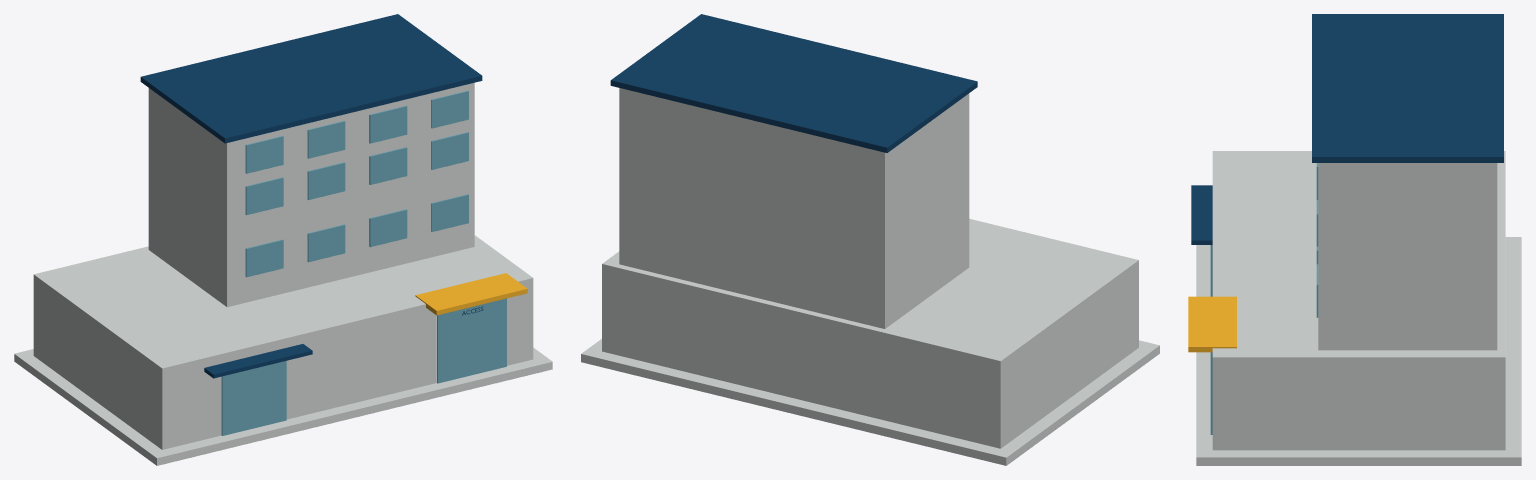
File: edited.glb
3 views of the same model, side by side, from view 1: azimuth 30°, elevation 25°; view 2: azimuth 150°, elevation 25°; view 3: azimuth 270°, elevation 25° (orthographic). The views are drawn at different scales.
Parts seen in each view (by area): view 1: WARD_FrontPier, PODIUM_Roof, ROOF, WARD_Side, PODIUM_FrontPier.001, PODIUM_Side, FOUNDATION, PODIUM_FrontPier, AMBULANCE_Entrance, PUBLIC_Entrance, AMBULANCE_Canopy, PODIUM_FrontPier.002 (+14 smaller); view 2: WARD_Back, PODIUM_Back, ROOF, PODIUM_Roof, WARD_Side, PODIUM_Side, FOUNDATION; view 3: WARD_Side.001, ROOF, PODIUM_Side.001, PODIUM_Roof, FOUNDATION, AMBULANCE_Canopy, PODIUM_Back, PUBLIC_Canopy, WARD_FrontPier, WARD_Back, PODIUM_FrontPier.002.
Part boxes in pixels (left/top/right/bottom): WARD_FrontPier: left=225, top=83, right=474, bottom=306; PODIUM_Roof: left=33, top=235, right=526, bottom=369; ROOF: left=140, top=14, right=482, bottom=143; WARD_Side: left=148, top=88, right=230, bottom=307; PODIUM_FrontPier.001: left=284, top=303, right=436, bottom=419; PODIUM_Side: left=33, top=275, right=165, bottom=449; FOUNDATION: left=14, top=347, right=552, bottom=465; PODIUM_FrontPier: left=160, top=352, right=221, bottom=449; AMBULANCE_Entrance: left=437, top=298, right=506, bottom=383; PUBLIC_Entrance: left=221, top=361, right=286, bottom=435; AMBULANCE_Canopy: left=415, top=273, right=527, bottom=315; PODIUM_FrontPier.002: left=507, top=276, right=533, bottom=365; WARD_Back: left=619, top=88, right=887, bottom=328; PODIUM_Back: left=602, top=262, right=1003, bottom=448; ROOF: left=610, top=14, right=977, bottom=152; PODIUM_Roof: left=605, top=221, right=1136, bottom=365; WARD_Side: left=880, top=95, right=969, bottom=328; PODIUM_Side: left=999, top=259, right=1137, bottom=447; FOUNDATION: left=581, top=339, right=1159, bottom=465; WARD_Side.001: left=1318, top=163, right=1497, bottom=350; ROOF: left=1312, top=14, right=1503, bottom=162; PODIUM_Side.001: left=1212, top=356, right=1505, bottom=450; PODIUM_Roof: left=1212, top=151, right=1505, bottom=361; FOUNDATION: left=1196, top=237, right=1521, bottom=465; AMBULANCE_Canopy: left=1188, top=296, right=1236, bottom=352; PODIUM_Back: left=1500, top=151, right=1505, bottom=450; PUBLIC_Canopy: left=1191, top=185, right=1212, bottom=244; WARD_FrontPier: left=1318, top=163, right=1323, bottom=350; WARD_Back: left=1492, top=163, right=1497, bottom=350; PODIUM_FrontPier.002: left=1212, top=348, right=1217, bottom=449.
Size of the model in its own units: 16 by 10.1 by 10.25.
